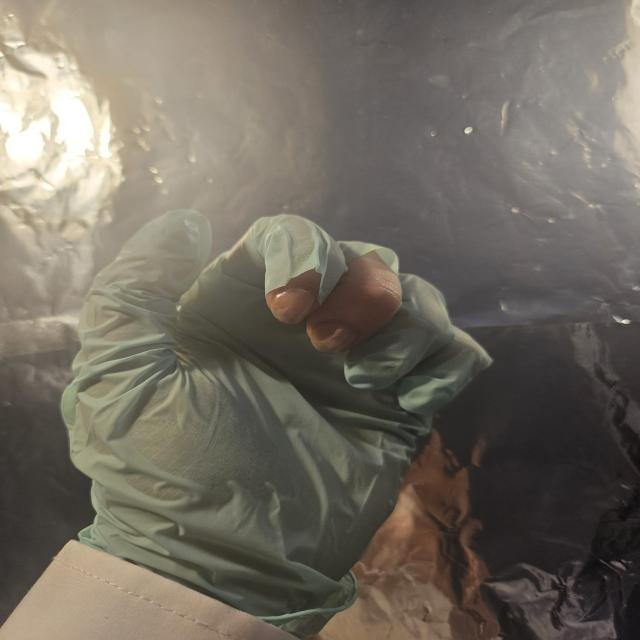gloves_damaged: (61, 206, 496, 640)
